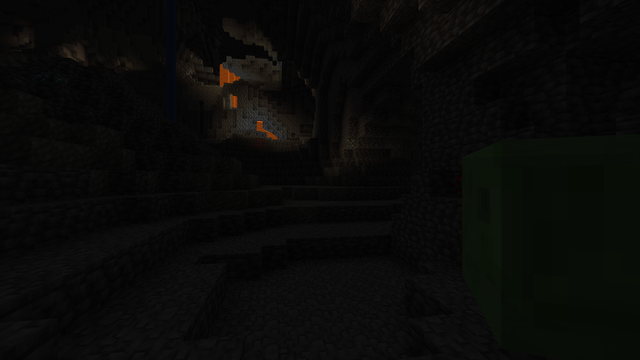slimes: (438, 116, 638, 354)
